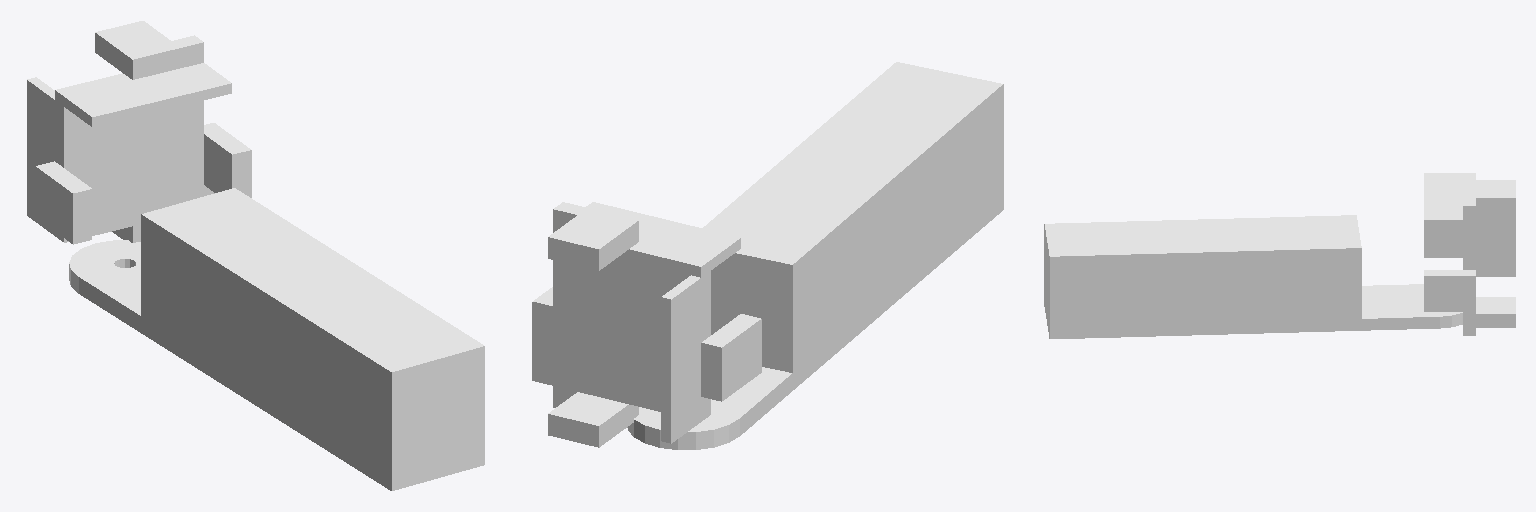
The robot description file, URDF, robot "装配体2.SLDASM":
<?xml version="1.0" encoding="utf-8"?>
<!-- This URDF was automatically created by SolidWorks to URDF Exporter! Originally created by [author] ([email redacted]) 
     Commit Version: 1.4.4-24-g24328f6  Build Version: 1.5.7084.36479
     For more information, please see http://wiki.ros.org/sw_urdf_exporter -->
<robot
  name="装配体2.SLDASM">
  <link
    name="base_link">
    <inertial>
      <origin
        xyz="-0.0502216761325691 0.0308703259893273 -0.00242371771234083"
        rpy="0 0 0" />
      <mass
        value="0.0207864363086098" />
      <inertia
        ixx="6.27146359614103E-06"
        ixy="3.91384878570614E-08"
        ixz="-1.74281939934301E-07"
        iyy="6.22523670823708E-06"
        iyz="-2.24464498340632E-07"
        izz="1.02843302597723E-05" />
    </inertial>
    <visual>
      <origin
        xyz="0 0 0"
        rpy="0 0 0" />
      <geometry>
        <mesh
          filename="package://装配体2.SLDASM/meshes/base_link.STL" />
      </geometry>
      <material
        name="">
        <color
          rgba="1 1 1 1" />
      </material>
    </visual>
    <collision>
      <origin
        xyz="0 0 0"
        rpy="0 0 0" />
      <geometry>
        <mesh
          filename="package://装配体2.SLDASM/meshes/base_link.STL" />
      </geometry>
    </collision>
  </link>
  <link
    name="Empty_Link">
    <inertial>
      <origin
        xyz="0.00278573313529829 0.108642875961877 0.0132022573580459"
        rpy="0 0 0" />
      <mass
        value="0.108265195096751" />
      <inertia
        ixx="0.000165610728957086"
        ixy="9.5948038385654E-06"
        ixz="5.81350225609557E-07"
        iyy="2.20440137783383E-05"
        iyz="-8.83595247037819E-06"
        izz="0.000163044159957564" />
    </inertial>
    <visual>
      <origin
        xyz="0 0 0"
        rpy="0 0 0" />
      <geometry>
        <mesh
          filename="package://装配体2.SLDASM/meshes/Empty_Link.STL" />
      </geometry>
      <material
        name="">
        <color
          rgba="1 1 1 1" />
      </material>
    </visual>
    <collision>
      <origin
        xyz="0 0 0"
        rpy="0 0 0" />
      <geometry>
        <mesh
          filename="package://装配体2.SLDASM/meshes/Empty_Link.STL" />
      </geometry>
    </collision>
  </link>
  <joint
    name="joint_arm_shelft"
    type="revolute">
    <origin
      xyz="-0.050797 0.02 0.0030326"
      rpy="0 0 3.1416" />
    <parent
      link="base_link" />
    <child
      link="Empty_Link" />
    <axis
      xyz="0 0 -1" />
    <limit
      lower="-1.57"
      upper="1.57"
      effort="0"
      velocity="0" />
    <safety_controller
      k_velocity="0" />
  </joint>
</robot>

--- What the picture shows (computed from the rendered views, not written in the file) ---
The picture shows the robot from 3 angles, left to right: view 1: azimuth 30°, elevation 25°; view 2: azimuth 150°, elevation 25°; view 3: azimuth 270°, elevation 25°; orthographic projection.
Robot: 装配体2.SLDASM — 2 links, 1 joints (1 revolute); root link base_link; default pose: every joint at zero.
Links seen in each view (by area): view 1: Empty_Link, base_link; view 2: Empty_Link, base_link; view 3: Empty_Link, base_link.
Link boxes in pixels (bbox=[...]): Empty_Link: bbox=[69, 188, 484, 490]; base_link: bbox=[27, 21, 251, 244]; Empty_Link: bbox=[627, 62, 1003, 449]; base_link: bbox=[532, 202, 761, 447]; Empty_Link: bbox=[1044, 215, 1462, 338]; base_link: bbox=[1424, 173, 1515, 335].
Size in the robot's own frame: 0.055 by 0.1807 by 0.059 metres.
2 mesh visuals loaded from 2 distinct referenced files (2 binary STL).
